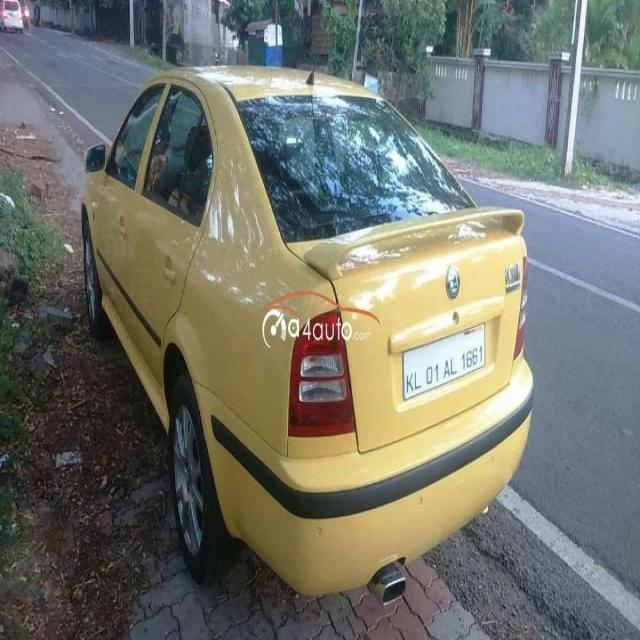number_plate: (400, 318, 491, 408)
